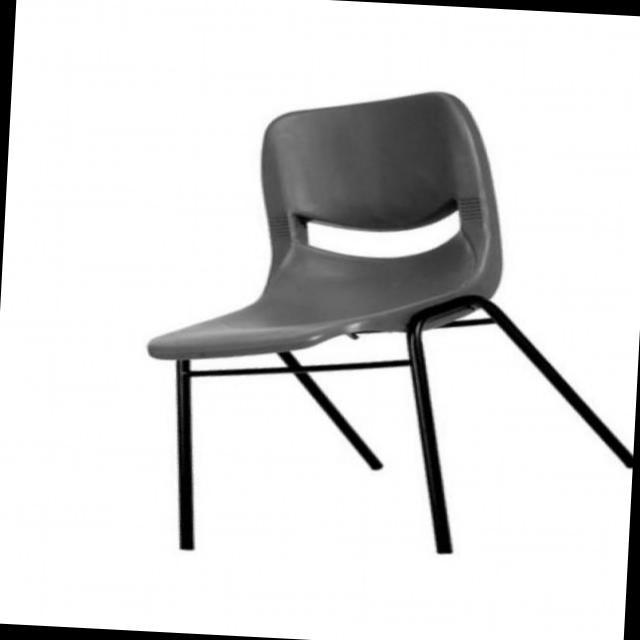chair: (132, 75, 640, 578)
